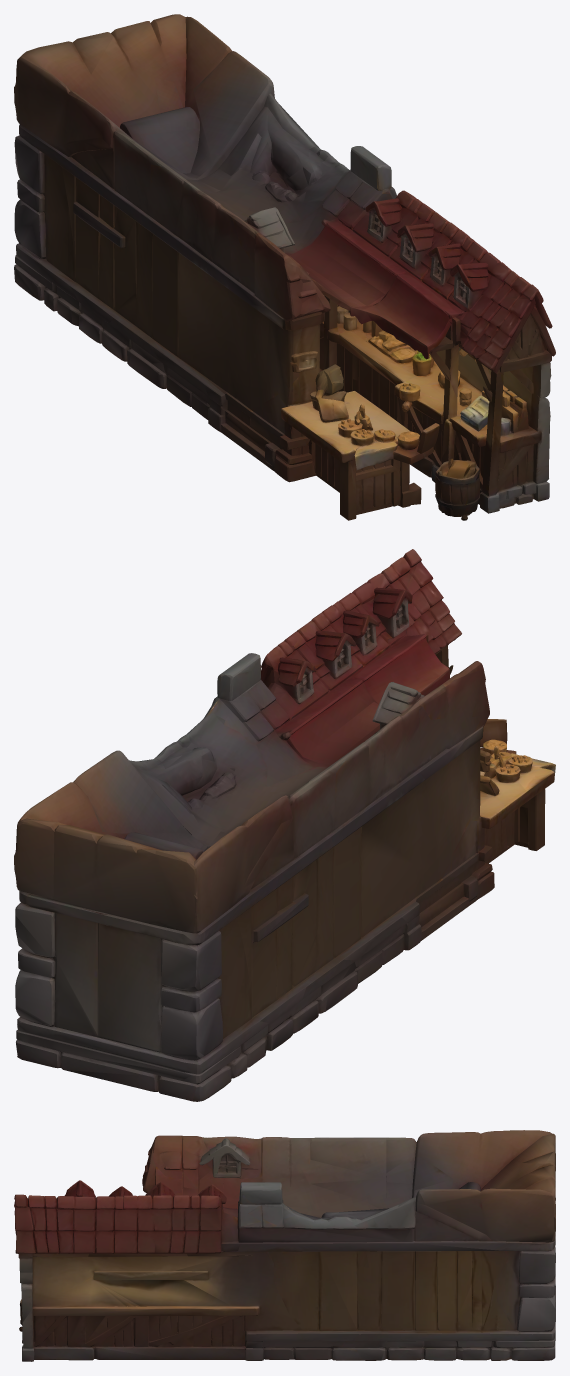
3 views of the same model, one above another, from view 1: azimuth 30°, elevation 25°; view 2: azimuth 150°, elevation 25°; view 3: azimuth 270°, elevation 25° (orthographic). The views are drawn at different scales.
Parts seen in each view (by area): view 1: model; view 2: model; view 3: model.
Part boxes in pixels (box(x1,y1,x2,y2)): model: box(14, 14, 555, 520); model: box(14, 549, 555, 1101); model: box(14, 1130, 555, 1361).
Bounding box in the file's own units: 0.555 × 0.6644 × 1.9.
1 material, 1 textured.
